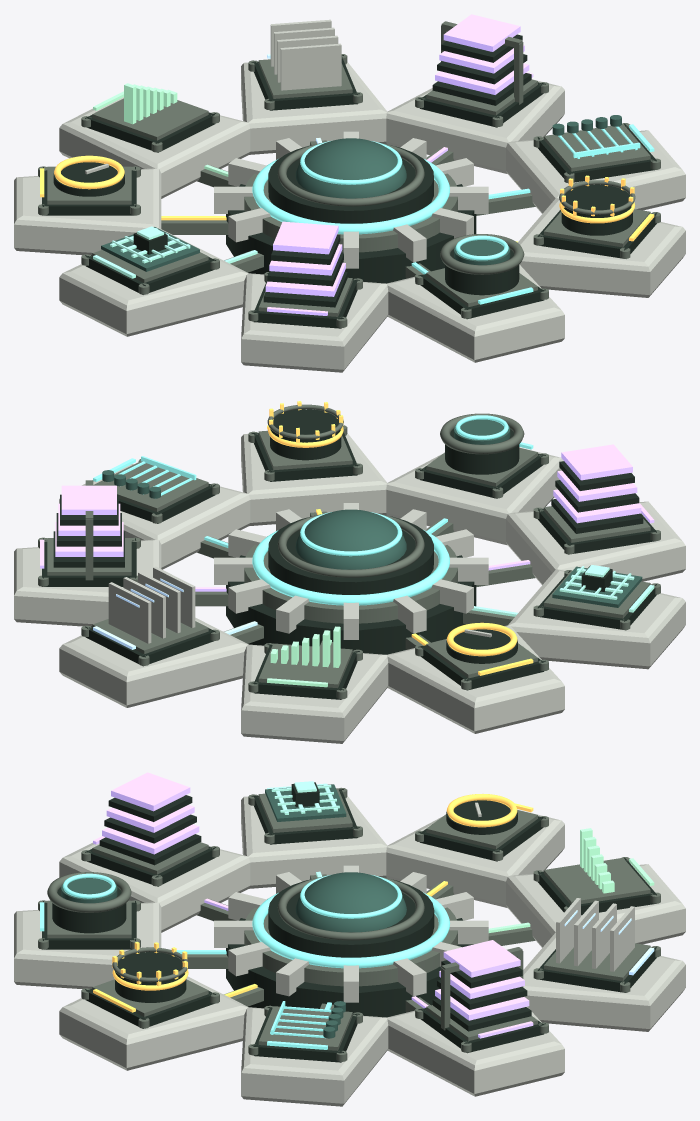
The model's file is axis-09.glb.
3 views of the same model, one above another, from view 1: azimuth 30°, elevation 25°; view 2: azimuth 150°, elevation 25°; view 3: azimuth 270°, elevation 25° (orthographic).
Parts seen in each view (by area): view 1: decision-core, aoi, safe, eda, rag, planning, risk, data, knowledge, forge, AXIS-09, weight-layer-5 (×2) (+5 smaller); view 2: decision-core, rag, aoi, risk, eda, planning, safe, data, forge, knowledge, AXIS-09, weight-layer-5 (×2) (+5 smaller); view 3: decision-core, safe, rag, aoi, data, risk, eda, knowledge, planning, forge, weight-layer-5 (×2), AXIS-09 (+5 smaller).
Part boxes in pixels (x1,y1,x2,y2): decision-core: (214, 131, 488, 283); aoi: (387, 234, 564, 362); safe: (517, 175, 685, 297); eda: (59, 226, 248, 336); rag: (241, 19, 387, 154); planning: (59, 83, 250, 198); risk: (14, 155, 161, 255); data: (506, 115, 685, 213); knowledge: (386, 21, 564, 173); forge: (241, 272, 388, 372); AXIS-09: (161, 138, 535, 278); weight-layer-5 (×2): (273, 14, 520, 254); decision-core: (214, 503, 488, 654); rag: (59, 566, 248, 707); aoi: (386, 413, 563, 545); risk: (387, 622, 564, 733); eda: (508, 565, 685, 669); planning: (241, 626, 388, 743); safe: (241, 401, 386, 525); data: (59, 456, 250, 569); forge: (506, 501, 685, 584); knowledge: (14, 480, 161, 626); AXIS-09: (195, 509, 535, 649); weight-layer-5 (×2): (61, 444, 632, 514); decision-core: (214, 865, 488, 1017); safe: (59, 941, 248, 1070); rag: (523, 898, 685, 1031); aoi: (14, 872, 161, 988); data: (241, 1001, 388, 1106); risk: (386, 794, 564, 907); eda: (241, 781, 387, 888); knowledge: (387, 947, 564, 1096); planning: (506, 828, 685, 947); forge: (59, 836, 250, 932); weight-layer-5 (×2): (111, 772, 520, 977); AXIS-09: (176, 871, 535, 1012).
Size of the model in its own units: 5.34 by 1.02 by 5.26.
